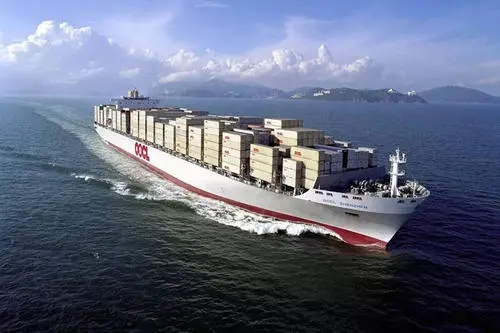Cargoship: (91, 87, 431, 256)
